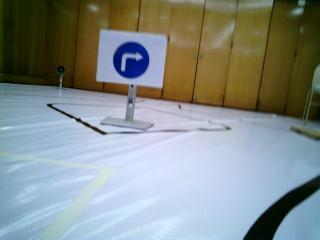right: (106, 34, 163, 87)
